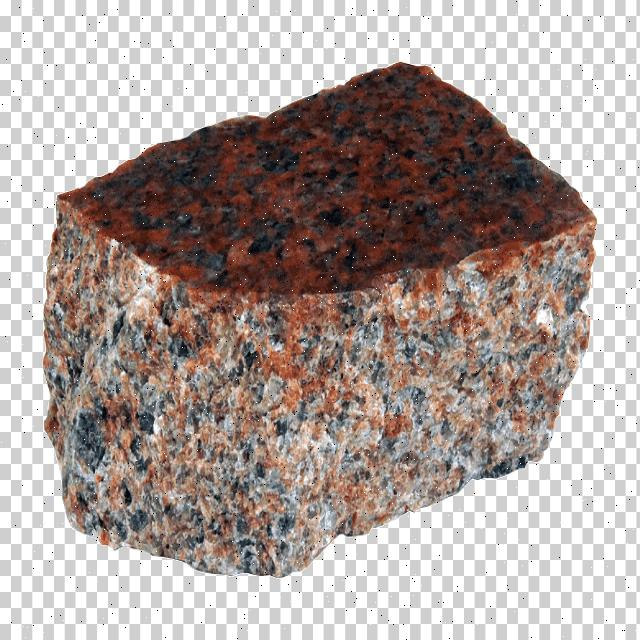Igneous: (42, 59, 597, 586)
